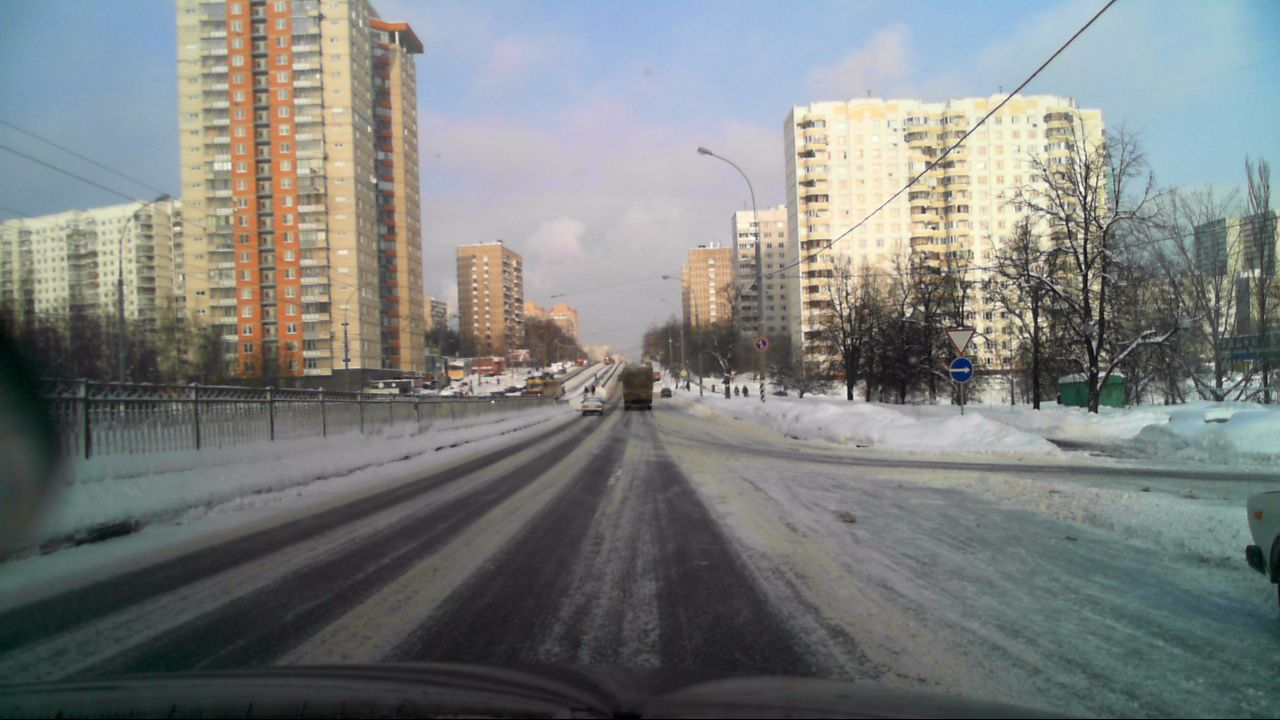Turn Right: (949, 357, 973, 383)
